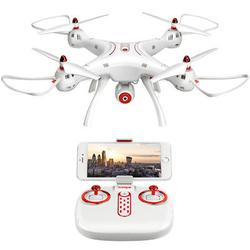drone: (1, 10, 249, 130)
